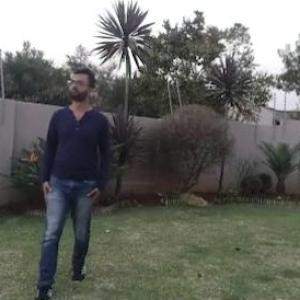follow: (29, 26, 117, 299)
